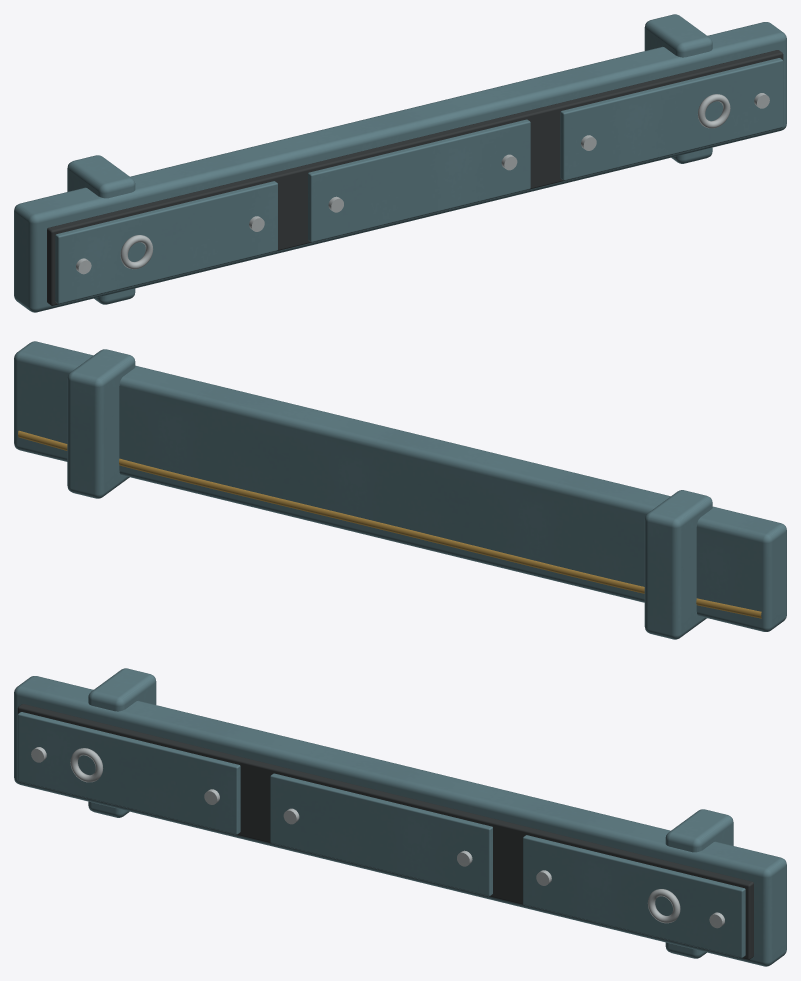
Rendered from gorgehold-survivor-gallery-and-operations-gallery-inne-eccd793c__32870.glb.
3 renders of one model, top to bottom at view 1: azimuth 30°, elevation 25°; view 2: azimuth 150°, elevation 25°; view 3: azimuth 330°, elevation 25°, orthographic.
Parts seen in each view (by area): view 1: gallery-inner-utility-spine; view 2: gallery-inner-utility-spine; view 3: gallery-inner-utility-spine.
Part boxes in pixels (box(x1,y1,x2,y2)): gallery-inner-utility-spine: box(14, 14, 786, 312); gallery-inner-utility-spine: box(14, 341, 786, 639); gallery-inner-utility-spine: box(14, 668, 786, 966).
Bounding box in the file's own units: 2.1 × 0.3199 × 0.2685.
Materials: 4 (2 with a texture image).
